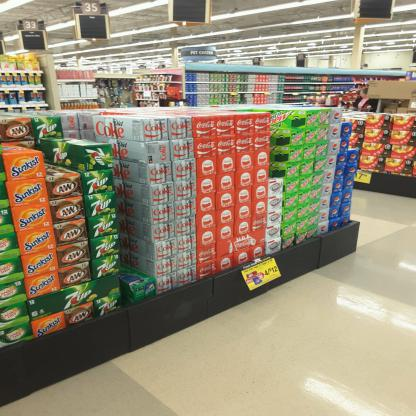Void: (113, 146, 147, 276), (41, 149, 73, 174), (271, 125, 283, 175)
